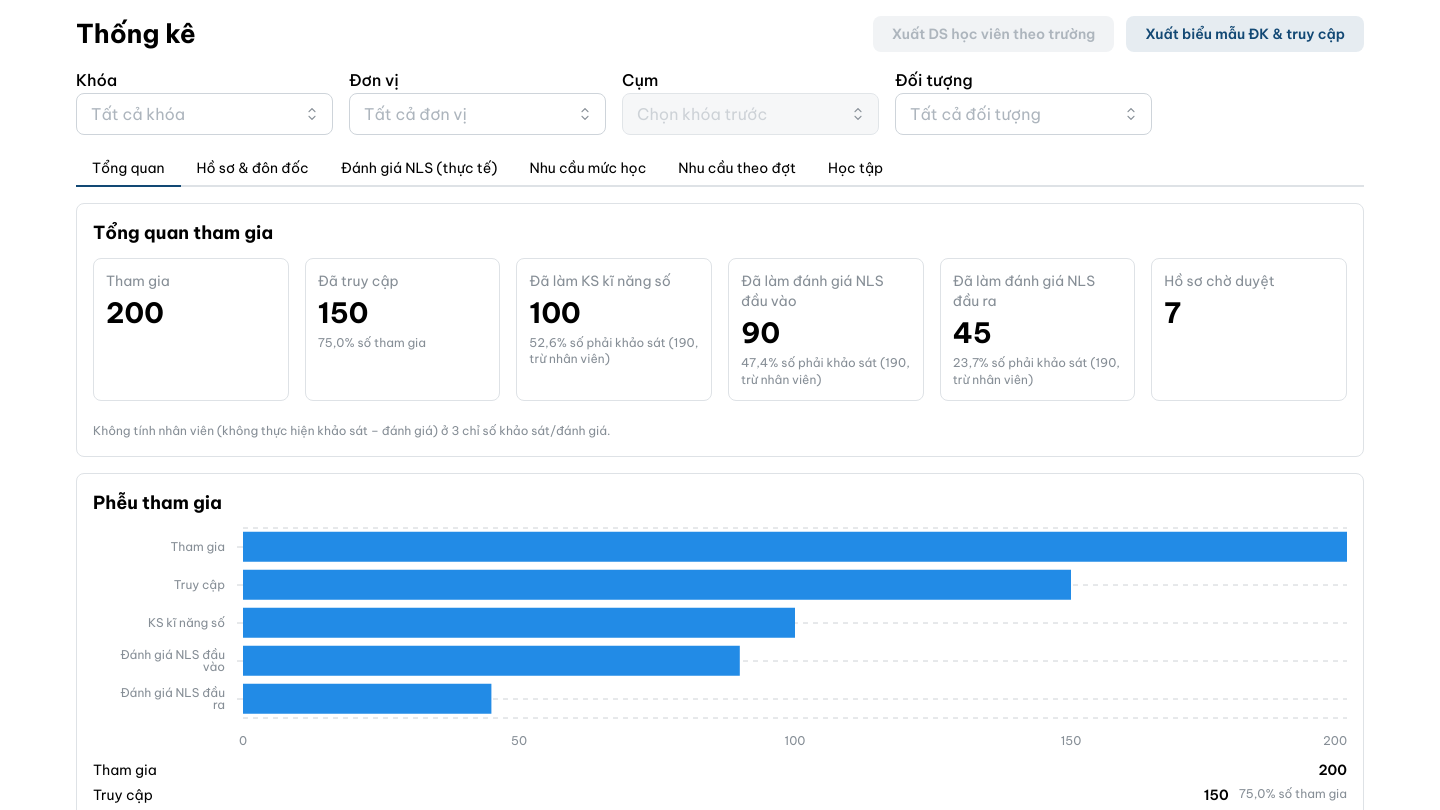
Test case: DashboardThongKe › bấm tab "Nhu cầu mức học" → hiện khối, cập nhật URL ?tab=nhu_cau, gọi API
This screenshot has width=1440, height=810.
Expected: the element with test id "kpi-tham-gia" is shown, [93,258,289,402]
Click the tab "Nhu cầu mức học" at (588, 169), box [513,151,662,187]
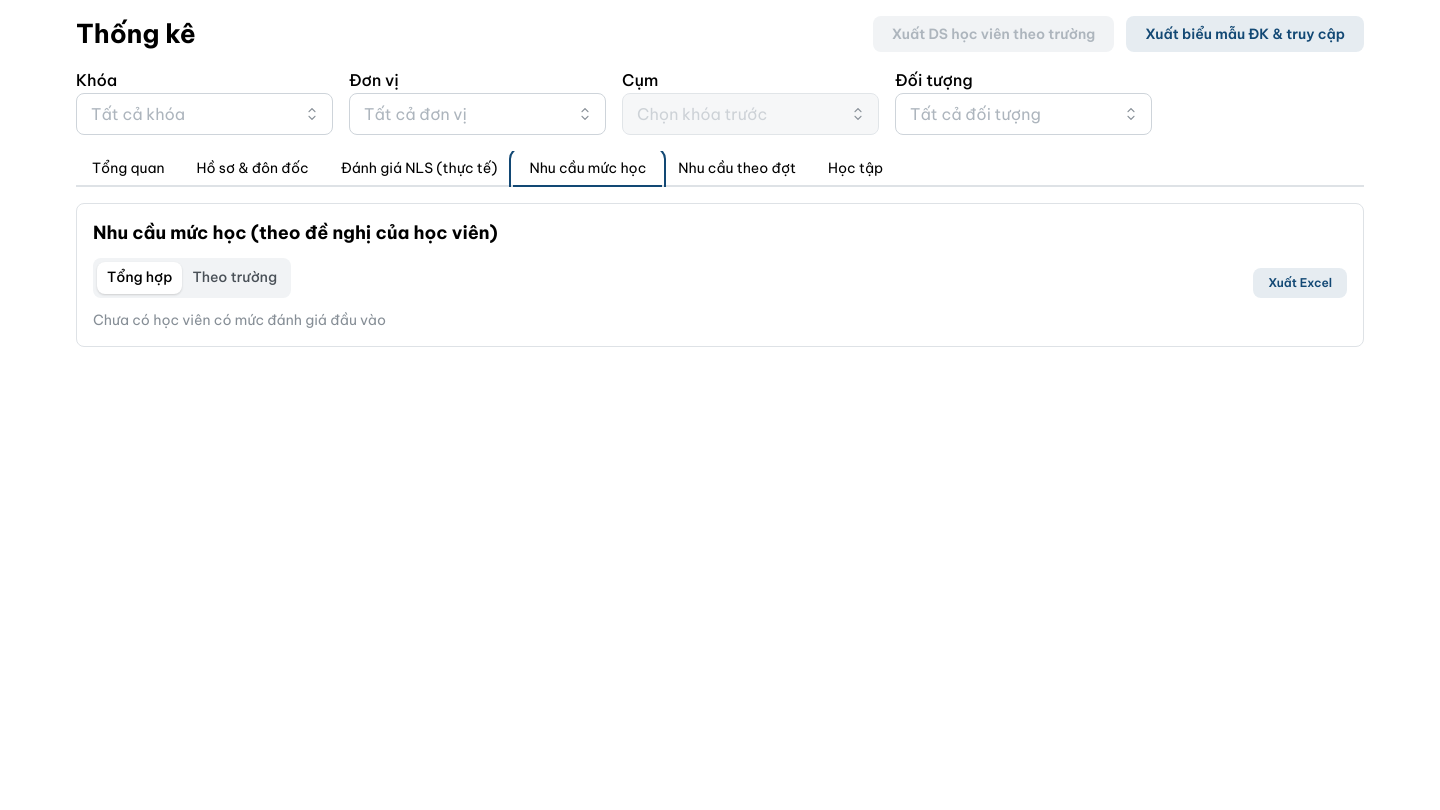
Now the element "Nhu cầu mức học (theo đề nghị của học viên)" is shown, box [76,203,1364,347]
